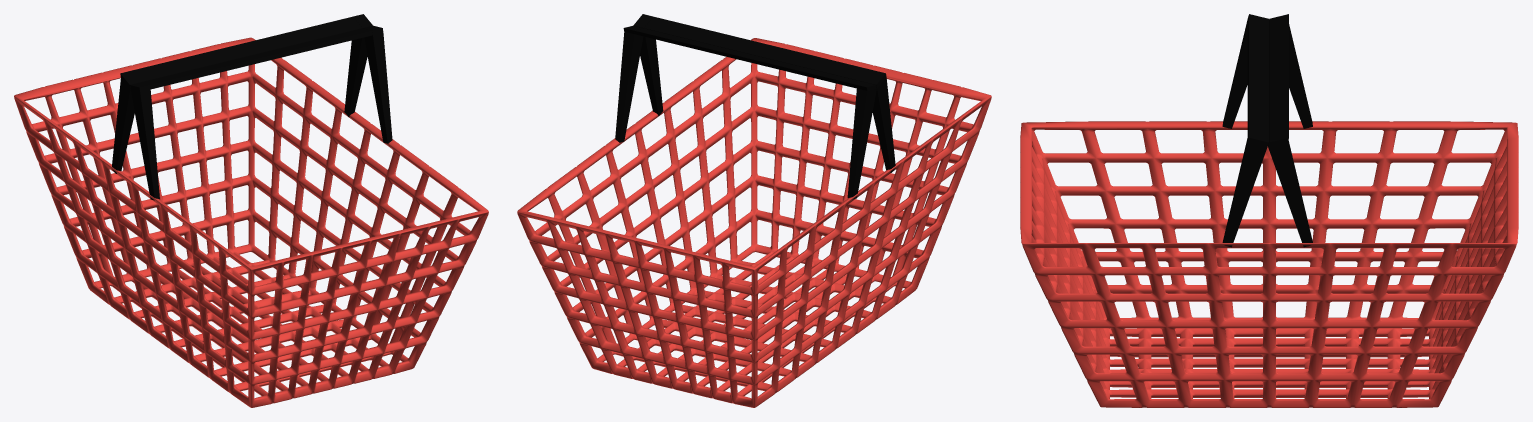
The model's file is sepet.fbx.
The picture shows the model from 3 angles, left to right: view 1: azimuth 30°, elevation 25°; view 2: azimuth 150°, elevation 25°; view 3: azimuth 270°, elevation 25°; orthographic projection. The views are drawn at different scales.
Visible parts, largest first — view 1: Cube, Cube.002, Cube.001, Cube.003, Cube.004; view 2: Cube, Cube.001, Cube.002, Cube.004, Cube.003; view 3: Cube, Cube.001, Cube.002, Cube.003, Cube.004.
Boxes of the visible parts, <box> form: Cube: <box>14,37,488,407</box>; Cube.002: <box>112,16,361,173</box>; Cube.001: <box>130,28,372,200</box>; Cube.003: <box>363,25,392,143</box>; Cube.004: <box>344,14,372,117</box>; Cube: <box>517,38,991,407</box>; Cube.001: <box>644,16,895,172</box>; Cube.002: <box>634,28,876,199</box>; Cube.004: <box>615,25,643,142</box>; Cube.003: <box>633,14,663,116</box>; Cube: <box>1020,121,1518,407</box>; Cube.001: <box>1222,14,1268,136</box>; Cube.002: <box>1269,14,1312,137</box>; Cube.003: <box>1222,132,1268,247</box>; Cube.004: <box>1268,132,1312,247</box>.
Size of the model in its own units: 194 by 213 by 330.
